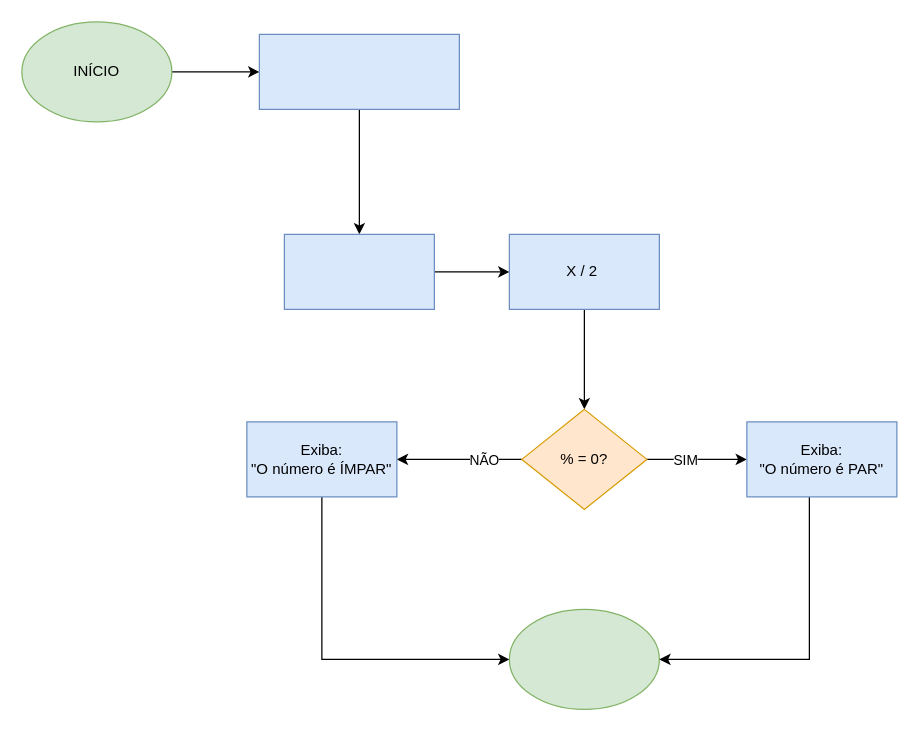
This 919x731 diagram has some shape labels left out. The box of each missing label's shape, as (x1, y1, x2, y2) in pixels:
Exiba: "Digite um número inteiro: ": (258, 33, 459, 109)
FIM: (508, 608, 659, 709)
número = X: (283, 233, 434, 309)
